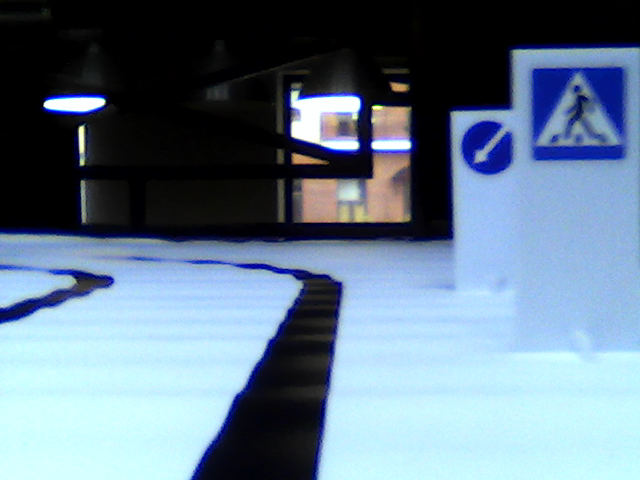pesh: (533, 67, 625, 160)
prep: (462, 120, 512, 176)
